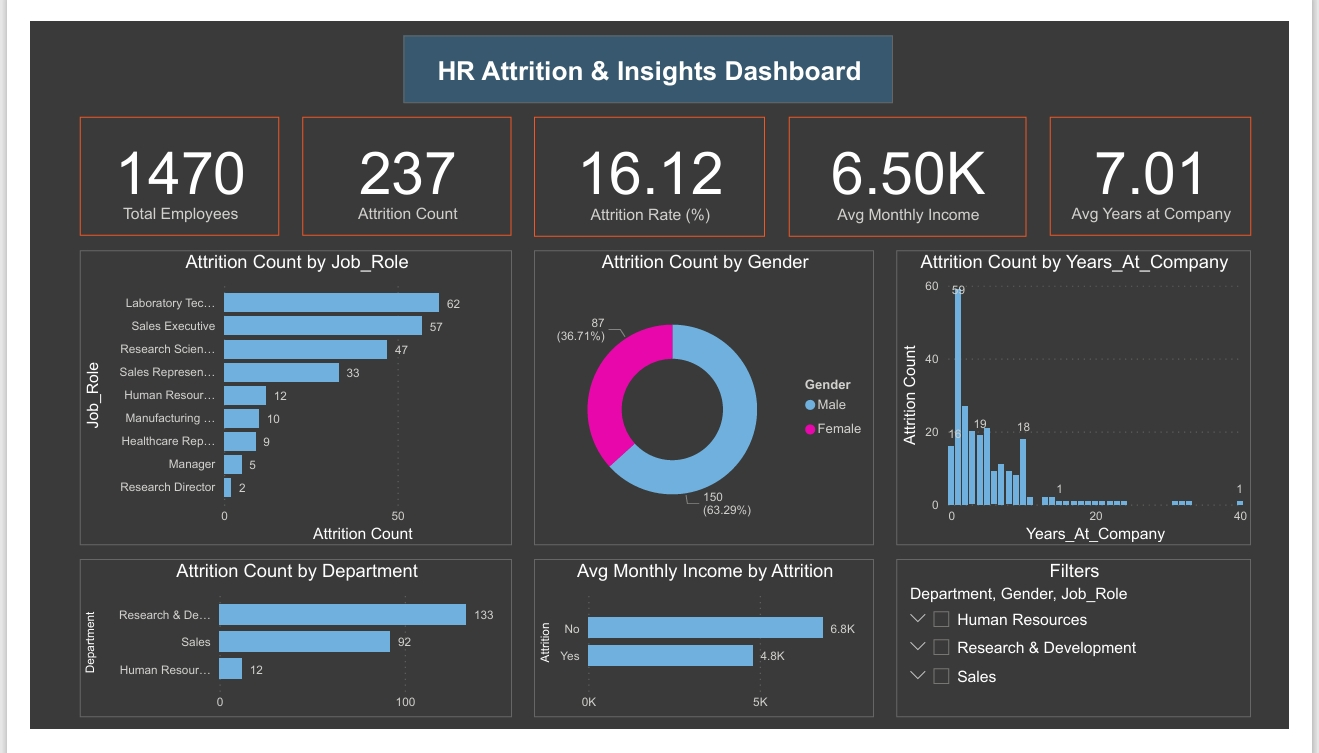

Layout of this report page (visuals, bound fields, positions):
{"tool":"powerbi","page":{"name":"HR Attrition & Insights Dashboard","canvas":[1280,720],"ordinal":0},"visuals":[{"type":"textbox","box":[379.5,14.1,498.2,68.7],"z":0},{"type":"donutChart","fields":{"Category":["hr_dataset_cleaned.Gender"],"Y":["hr_dataset_cleaned.Attrition Count"]},"box":[511.8,232.1,346.5,300.4],"z":1000},{"type":"barChart","fields":{"Y":["hr_dataset_cleaned.Attrition Count"],"Category":["hr_dataset_cleaned.Department"]},"box":[49.3,546.8,440.3,160.5],"z":2000},{"type":"barChart","fields":{"Y":["hr_dataset_cleaned.Attrition Count"],"Category":["hr_dataset_cleaned.Job_Role"]},"box":[49.3,232.1,440.3,300.4],"z":3000},{"type":"columnChart","fields":{"Y":["hr_dataset_cleaned.Attrition Count"],"Category":["hr_dataset_cleaned.Years_At_Company"]},"box":[880.5,232.1,360.8,300.4],"z":4000},{"type":"barChart","fields":{"Category":["hr_dataset_cleaned.Attrition"],"Y":["hr_dataset_cleaned.Avg Monthly Income"]},"box":[511.8,546.8,346.5,160.5],"z":5000},{"type":"slicer","title":"Filters","fields":{"Values":["hr_dataset_cleaned.Department","hr_dataset_cleaned.Gender","hr_dataset_cleaned.Job_Role"]},"box":[880.5,546.8,360.8,160.5],"z":6000},{"type":"card","fields":{"Values":["hr_dataset_cleaned.Attrition Count"]},"box":[276.6,97,213,120.8],"z":7000},{"type":"card","fields":{"Values":["hr_dataset_cleaned.Attrition Rate (%)"]},"box":[512.4,97.1,234.7,121.9],"z":8000},{"type":"card","fields":{"Values":["hr_dataset_cleaned.Avg Monthly Income"]},"box":[771.9,97.1,241.5,121.9],"z":9000},{"type":"card","fields":{"Values":["hr_dataset_cleaned.Avg Years at Company"]},"box":[1036.3,97,205,120.8],"z":10000},{"type":"card","fields":{"Values":["hr_dataset_cleaned.Total Employees"]},"box":[49.3,97,203.4,120.8],"z":11000}]}

Visuals, with their boxes in screenshot pixels (x1, y1, x2, y2), scaled from the page's 1280x720 canvas onto the 1319x753 screenshot:
textbox: (left=391, top=15, right=904, bottom=87)
donutChart - hr_dataset_cleaned.Gender x hr_dataset_cleaned.Attrition Count: (left=527, top=243, right=884, bottom=557)
barChart - hr_dataset_cleaned.Attrition Count x hr_dataset_cleaned.Department: (left=51, top=572, right=505, bottom=740)
barChart - hr_dataset_cleaned.Attrition Count x hr_dataset_cleaned.Job_Role: (left=51, top=243, right=505, bottom=557)
columnChart - hr_dataset_cleaned.Attrition Count x hr_dataset_cleaned.Years_At_Company: (left=907, top=243, right=1279, bottom=557)
barChart - hr_dataset_cleaned.Attrition x hr_dataset_cleaned.Avg Monthly Income: (left=527, top=572, right=884, bottom=740)
"Filters" slicer: (left=907, top=572, right=1279, bottom=740)
card - hr_dataset_cleaned.Attrition Count: (left=285, top=101, right=505, bottom=228)
card - hr_dataset_cleaned.Attrition Rate (%): (left=528, top=102, right=770, bottom=229)
card - hr_dataset_cleaned.Avg Monthly Income: (left=795, top=102, right=1044, bottom=229)
card - hr_dataset_cleaned.Avg Years at Company: (left=1068, top=101, right=1279, bottom=228)
card - hr_dataset_cleaned.Total Employees: (left=51, top=101, right=260, bottom=228)
